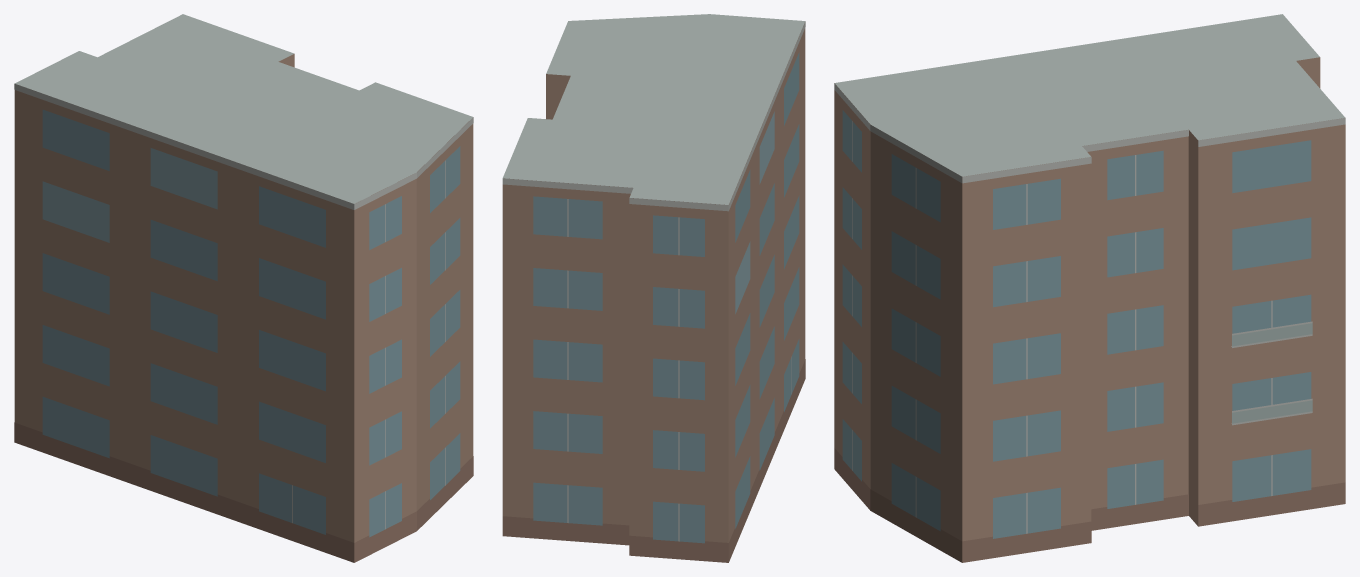
File: survey-upis-32917983.glb
3 views of the same model, side by side, from view 1: azimuth 30°, elevation 25°; view 2: azimuth 150°, elevation 25°; view 3: azimuth 270°, elevation 25° (orthographic). The views are drawn at different scales.
Visible parts, largest first — view 1: survey-upis-32917983.tmp; view 2: survey-upis-32917983.tmp; view 3: survey-upis-32917983.tmp.
Part boxes in pixels (<box>): survey-upis-32917983.tmp: <box>14,14,473,562</box>; survey-upis-32917983.tmp: <box>502,14,805,562</box>; survey-upis-32917983.tmp: <box>834,14,1345,562</box>.
Size of the model in its own units: 12.75 by 14.1 by 16.92.
